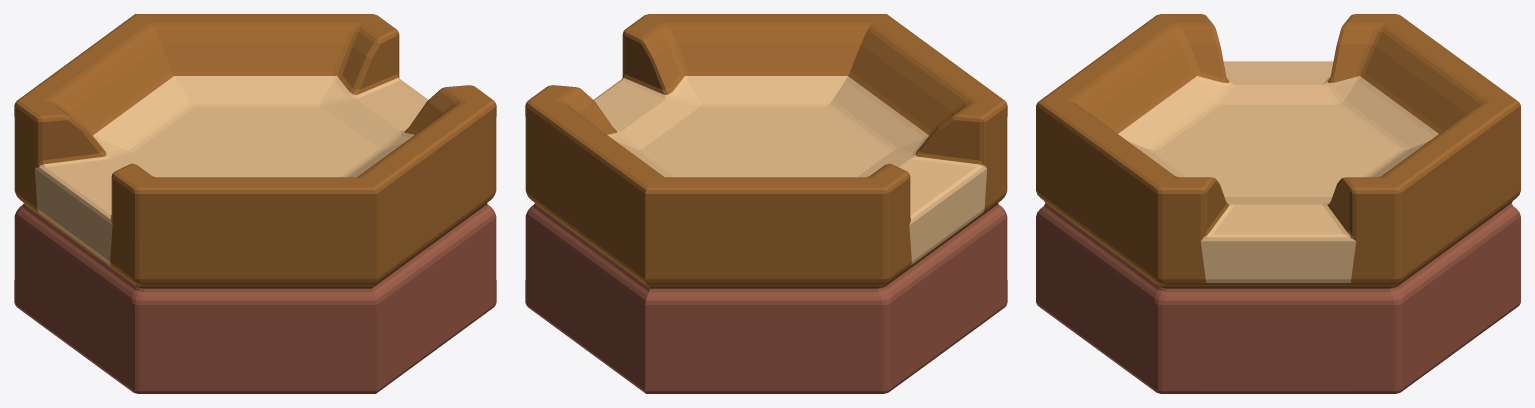
File: my_road_14.fbx
3 renders of one model, left to right at view 1: azimuth 30°, elevation 25°; view 2: azimuth 150°, elevation 25°; view 3: azimuth 270°, elevation 25°, orthographic.
Parts seen in each view (by area): view 1: Circle.005; view 2: Circle.005; view 3: Circle.005.
Part boxes in pixels (box(x1,y1,x2,y2)): Circle.005: box(14, 14, 496, 393); Circle.005: box(525, 14, 1007, 393); Circle.005: box(1036, 14, 1520, 393).
Size of the model in its own units: 200 by 109 by 231.
